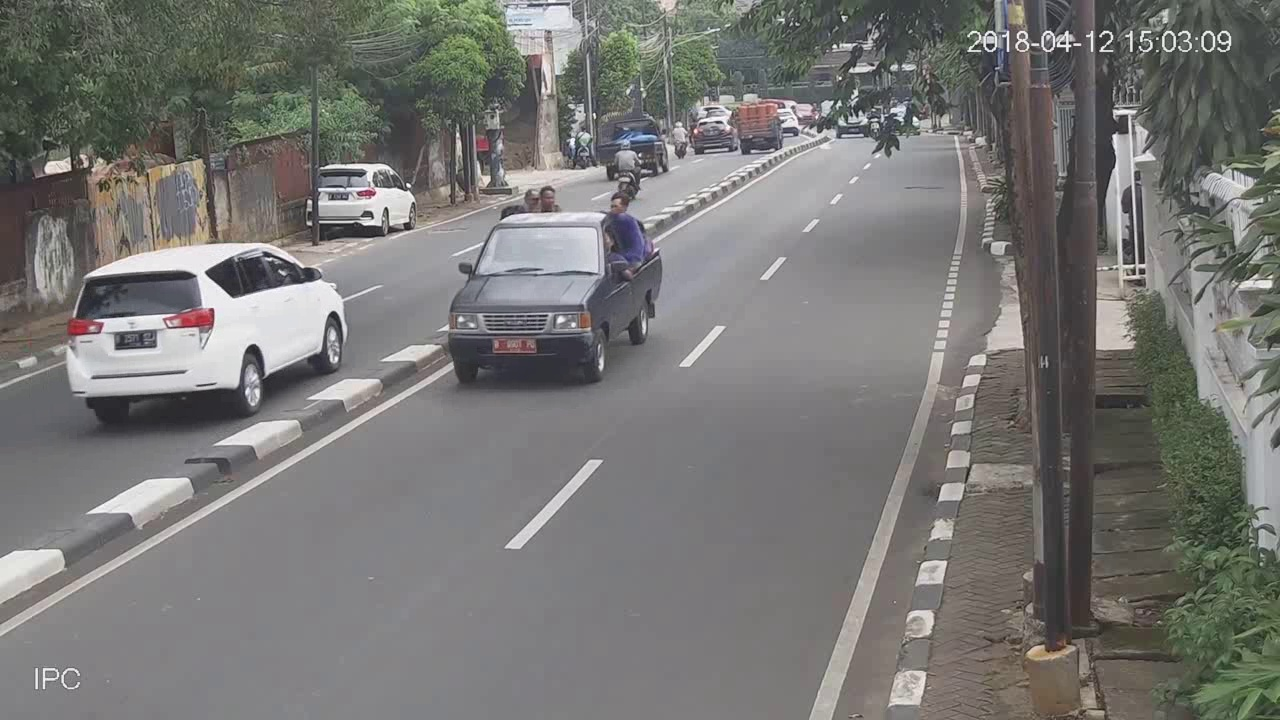car: (62, 240, 348, 419), (309, 159, 422, 238)
truck: (444, 207, 664, 387)
